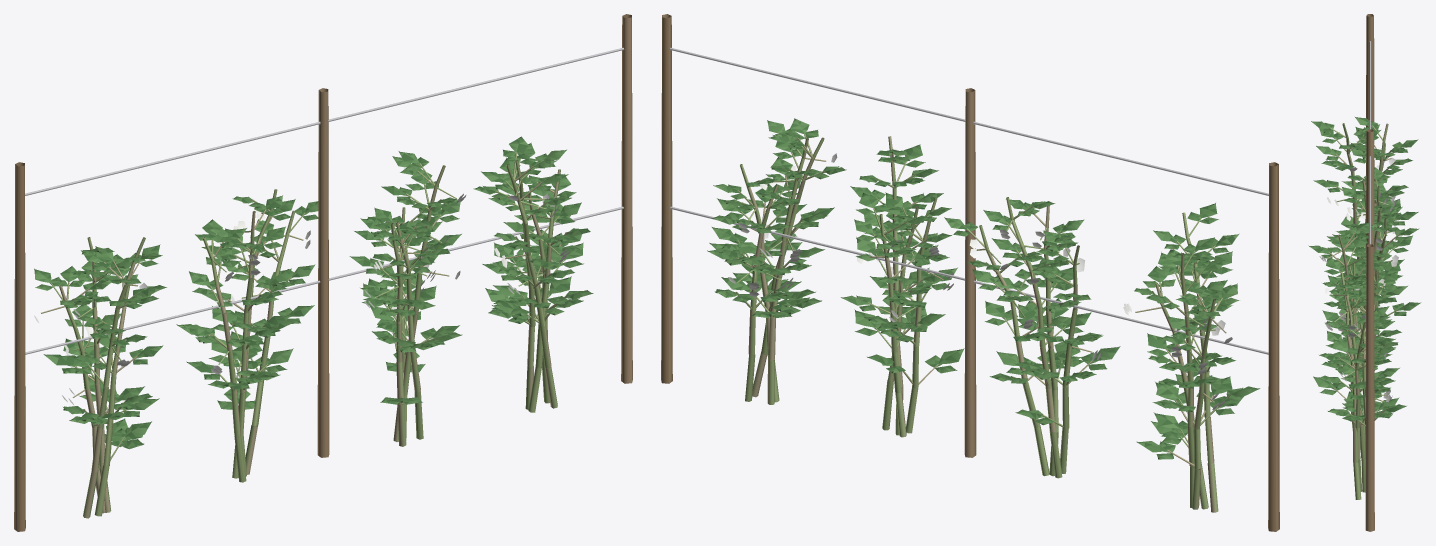
The model's file is framboise_fleurs.glb.
The picture shows the model from 3 angles, left to right: view 1: azimuth 30°, elevation 25°; view 2: azimuth 150°, elevation 25°; view 3: azimuth 270°, elevation 25°; orthographic projection. The views are drawn at different scales.
Parts seen in each view (by area): view 1: Framboise_Feuilles, Framboise_Cannes, Framboise_Piquets, Framboise_Fil, Framboise_Fleurs; view 2: Framboise_Feuilles, Framboise_Cannes, Framboise_Piquets, Framboise_Fil, Framboise_Fleurs; view 3: Framboise_Feuilles, Framboise_Cannes, Framboise_Piquets, Framboise_Fleurs, Framboise_Fil.
Part boxes in pixels (left/top/right/bottom): Framboise_Feuilles: left=34, top=136, right=593, bottom=449; Framboise_Cannes: left=41, top=152, right=569, bottom=518; Framboise_Piquets: left=14, top=14, right=632, bottom=531; Framboise_Fil: left=25, top=47, right=624, bottom=354; Framboise_Fleurs: left=34, top=193, right=568, bottom=405; Framboise_Feuilles: left=707, top=118, right=1260, bottom=459; Framboise_Cannes: left=735, top=134, right=1231, bottom=512; Framboise_Piquets: left=661, top=14, right=1279, bottom=531; Framboise_Fil: left=669, top=47, right=1268, bottom=354; Framboise_Fleurs: left=728, top=148, right=1232, bottom=409; Framboise_Feuilles: left=1308, top=117, right=1421, bottom=421; Framboise_Cannes: left=1327, top=123, right=1399, bottom=499; Framboise_Piquets: left=1365, top=14, right=1374, bottom=531; Framboise_Fleurs: left=1319, top=157, right=1398, bottom=402; Framboise_Fil: left=1369, top=41, right=1371, bottom=244.
Size of the model in its own units: 2.03 by 1.15 by 0.4169.
